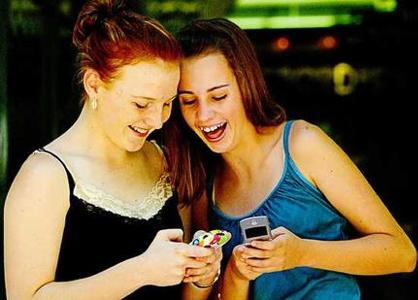person: (4, 6, 223, 300)
